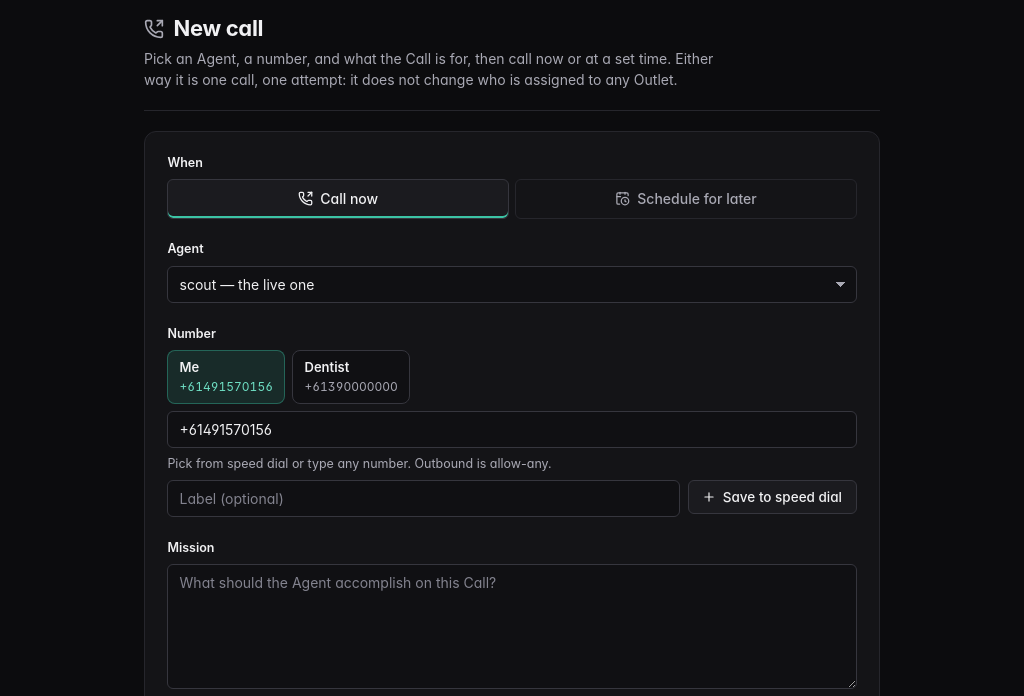
Test: Place a call › leaves the typed Mission intact when expand fails
This screenshot has width=1024, height=696.
Select "scout — the live one" in the dropdown with test id "place-agent". click: (512, 284)
box: 167,266 -> 857,303
Type "keep this typed line" into the text box with test id "place-mission". click: (512, 626)
box: 167,564 -> 857,689
(page scrolled)
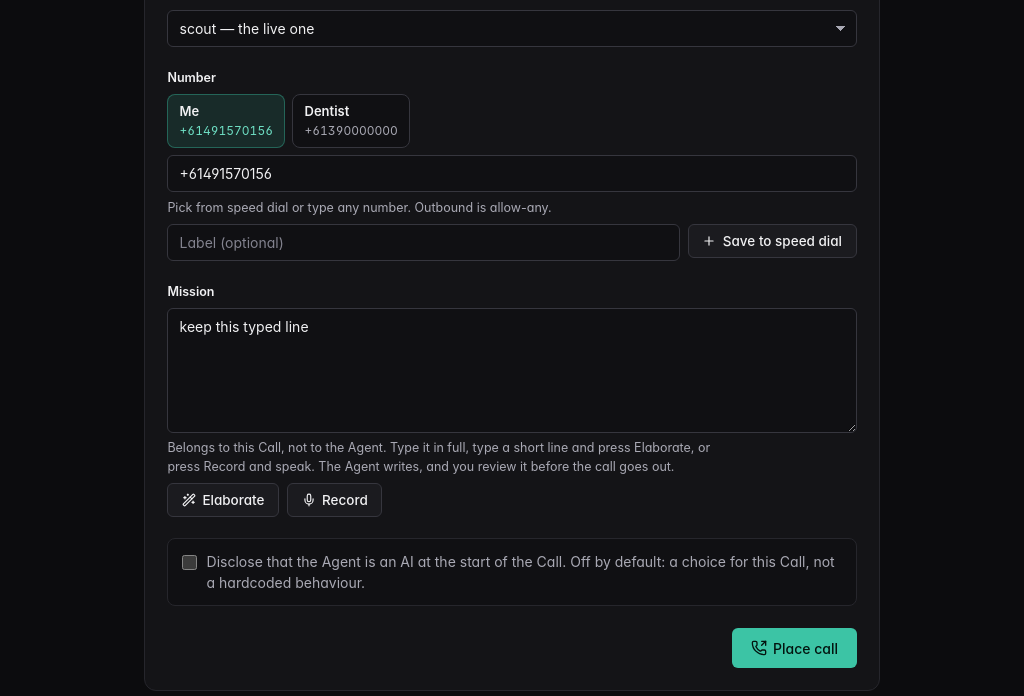
Click the button with test id "place-expand". click: (223, 500)
box: 167,483 -> 279,517
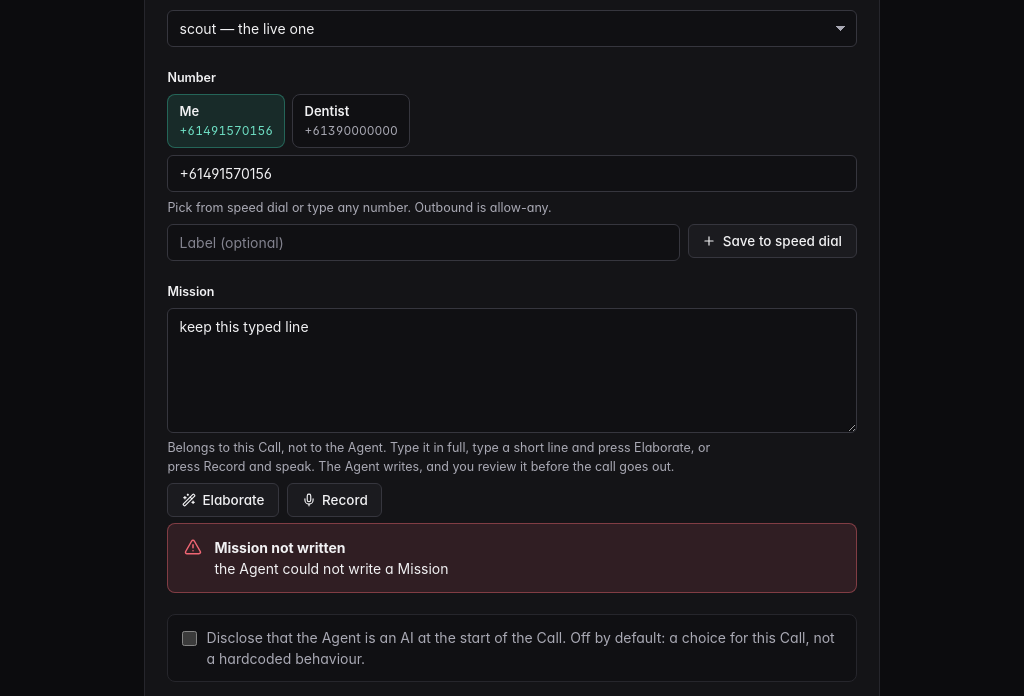
Expected: the element with test id "place-assist-error" is shown, 167,523 -> 857,593
